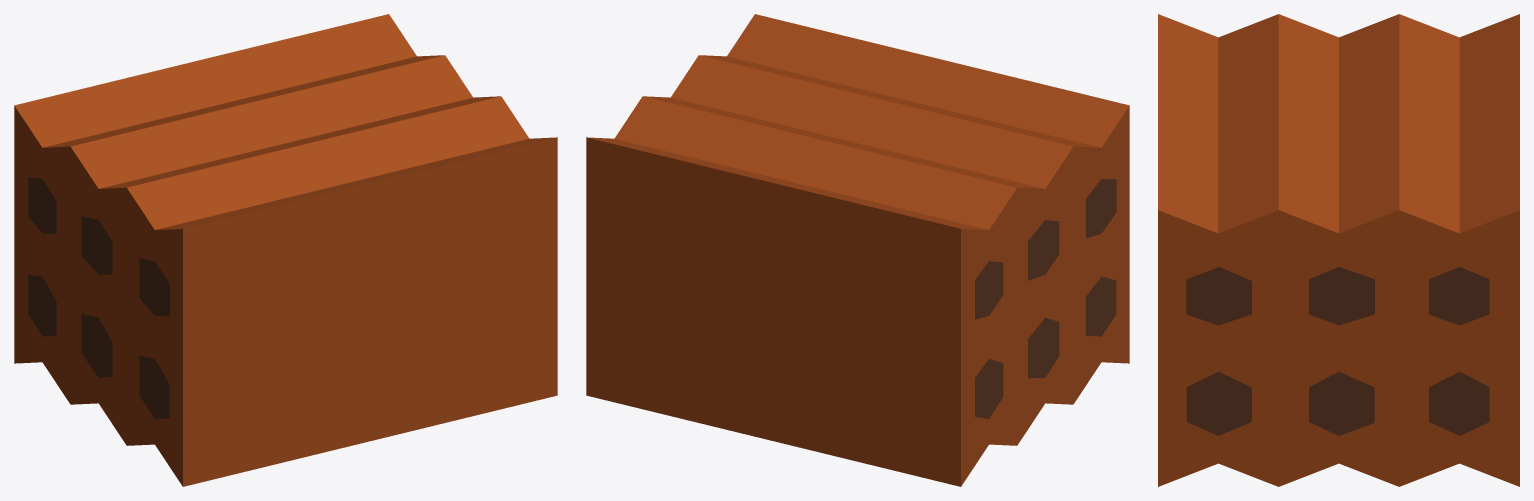
The model's file is MESH_PROP_Tijolo.fbx.
3 views of the same model, side by side, from view 1: azimuth 30°, elevation 25°; view 2: azimuth 150°, elevation 25°; view 3: azimuth 270°, elevation 25° (orthographic). The views are drawn at different scales.
Visible parts, largest first — view 1: tijolo; view 2: tijolo; view 3: tijolo.
Part boxes in pixels (<box>): tijolo: <box>14,14,557,486</box>; tijolo: <box>586,14,1129,486</box>; tijolo: <box>1158,14,1519,486</box>.
Bounding box in the file's own units: 30.22 × 19.9 × 23.56.
